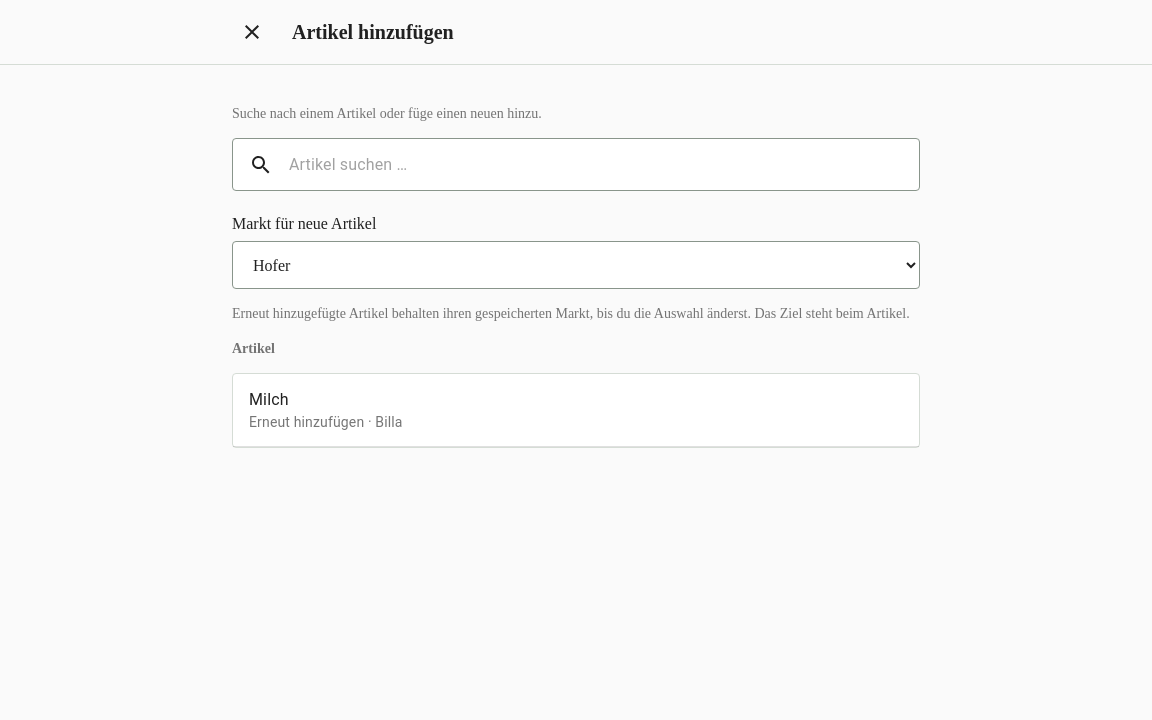
Test: keeps a failed re-add available with its saved destination
Click the button "Milch Erneut hinzufügen · Billa".
click(269, 400)  # box [249,390,403,430]
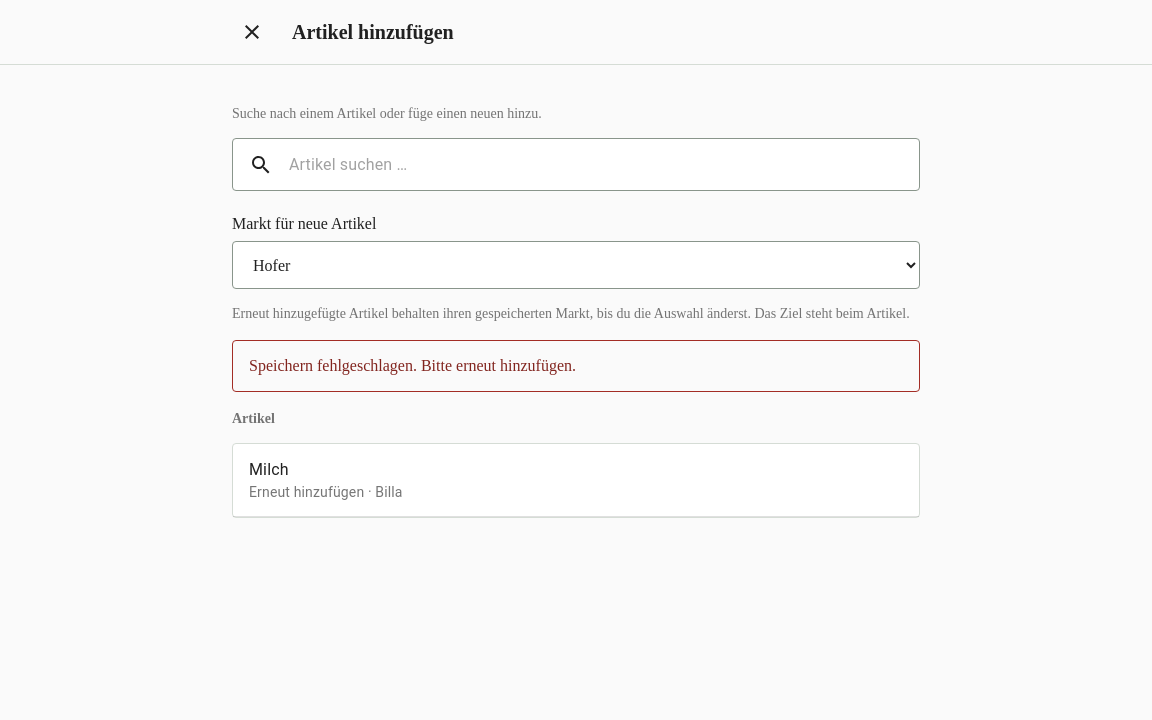
Check: the button "Milch Erneut hinzufügen · Billa" is shown, box [249,460,403,500]
Check: the message "Speichern fehlgeschlagen. Bitte erneut hinzufügen." is shown, box [232,340,920,392]
